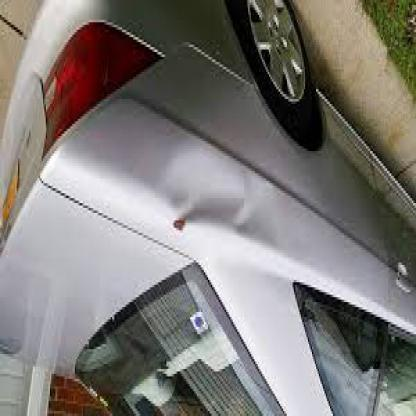dent: (157, 154, 254, 216)
